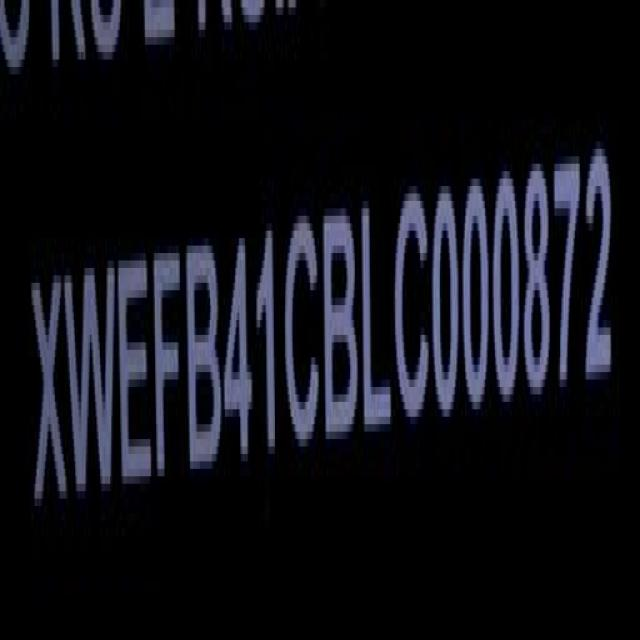0: (461, 175, 489, 416), (433, 184, 461, 424), (494, 173, 522, 411)
1: (258, 224, 278, 466)
2: (587, 144, 617, 392)
4: (225, 233, 253, 474)
7: (553, 152, 582, 400)
8: (523, 162, 551, 402)
B: (324, 206, 360, 452), (190, 245, 224, 485)
C: (286, 214, 324, 462), (396, 190, 432, 432)
E: (118, 250, 154, 502)
F: (154, 244, 186, 498)
L: (364, 201, 393, 443)
W: (68, 257, 118, 511)
X: (33, 268, 68, 520)
